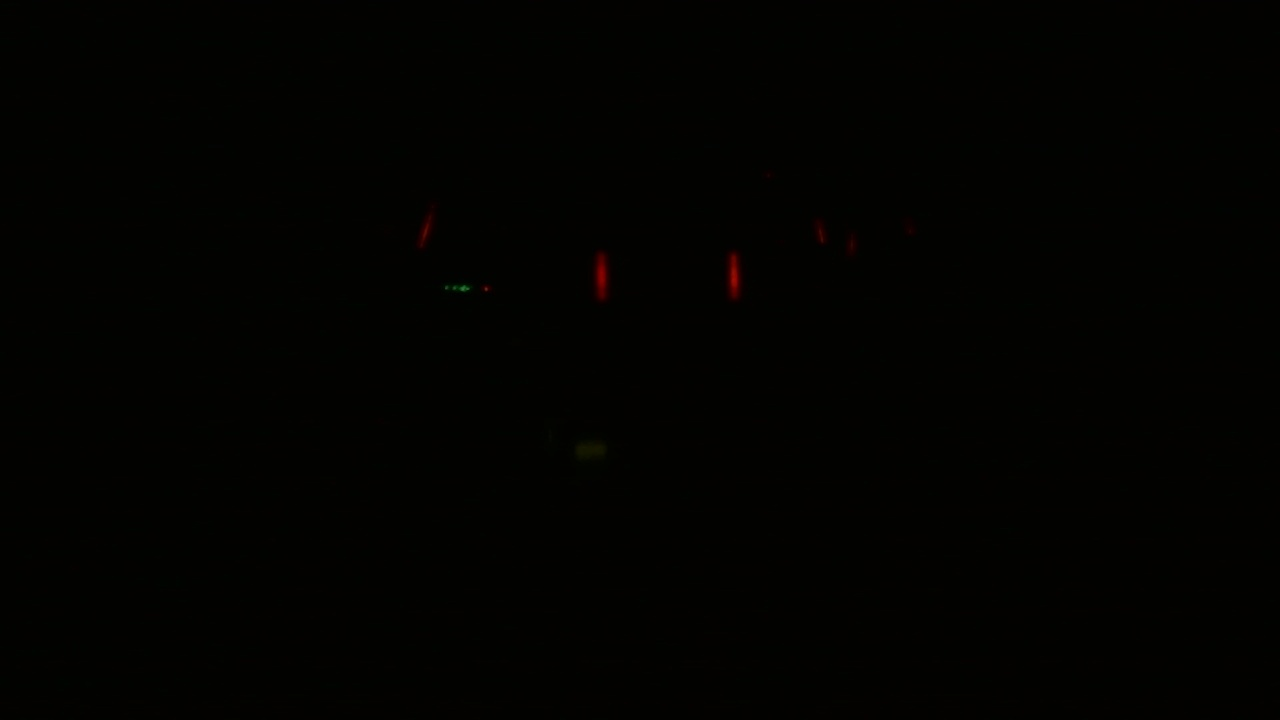pair1: (596, 247, 738, 299)
